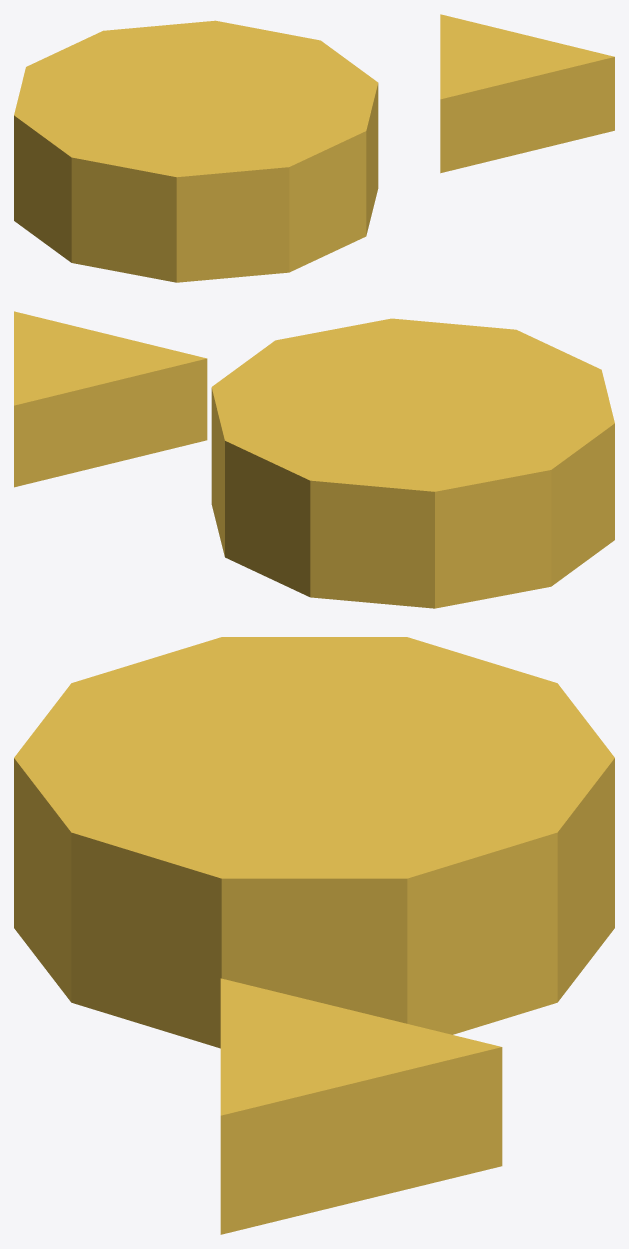
File: food_cheese.glb
3 views of the same model, one above another, from view 1: azimuth 30°, elevation 25°; view 2: azimuth 150°, elevation 25°; view 3: azimuth 270°, elevation 25° (orthographic). The views are drawn at different scales.
Parts seen in each view (by area): view 1: food_cheese; view 2: food_cheese; view 3: food_cheese.
Part boxes in pixels (<box>): food_cheese: <box>14,14,614,282</box>; food_cheese: <box>14,311,614,608</box>; food_cheese: <box>14,637,614,1234</box>.
Bounding box in the file's own units: 0.5388 × 0.1 × 0.32.
